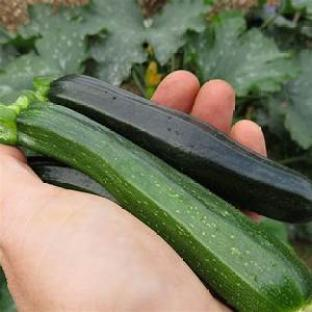Zucchini: (0, 99, 311, 311), (48, 75, 311, 222), (28, 156, 115, 201)
